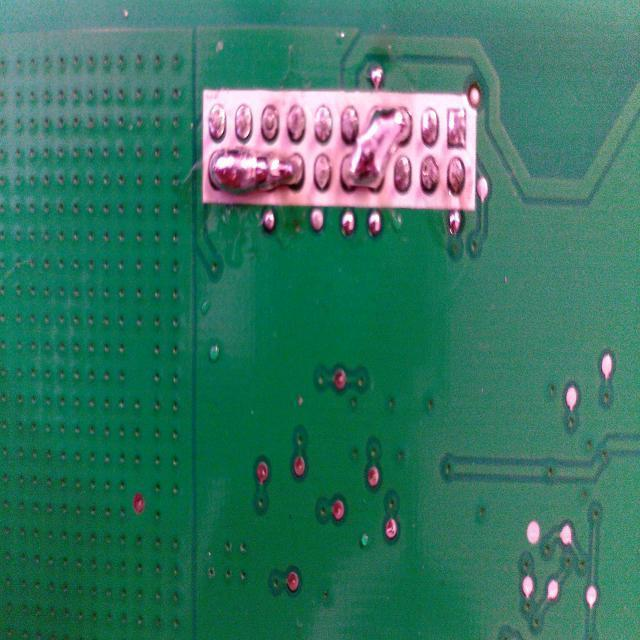Soldering shorted: (340, 91, 414, 200), (206, 142, 304, 201)
